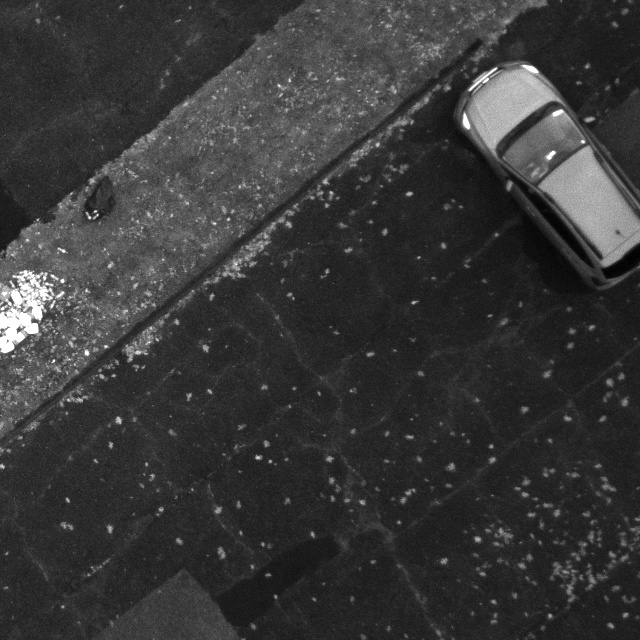bottle: (54, 290, 65, 302), (47, 299, 57, 312), (41, 291, 53, 301), (56, 246, 69, 255), (83, 210, 92, 222), (47, 287, 56, 299), (49, 274, 60, 282), (90, 213, 99, 222), (90, 210, 97, 215)
